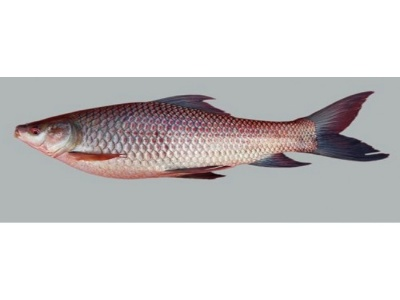rohu: (15, 90, 394, 182)
